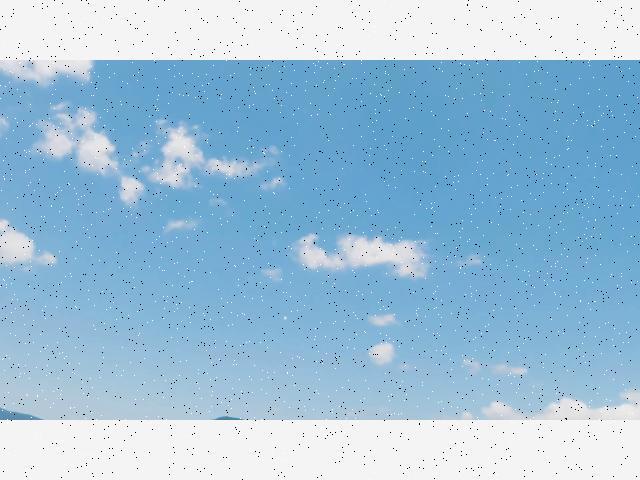Anti-Drone: (278, 308, 292, 325)
